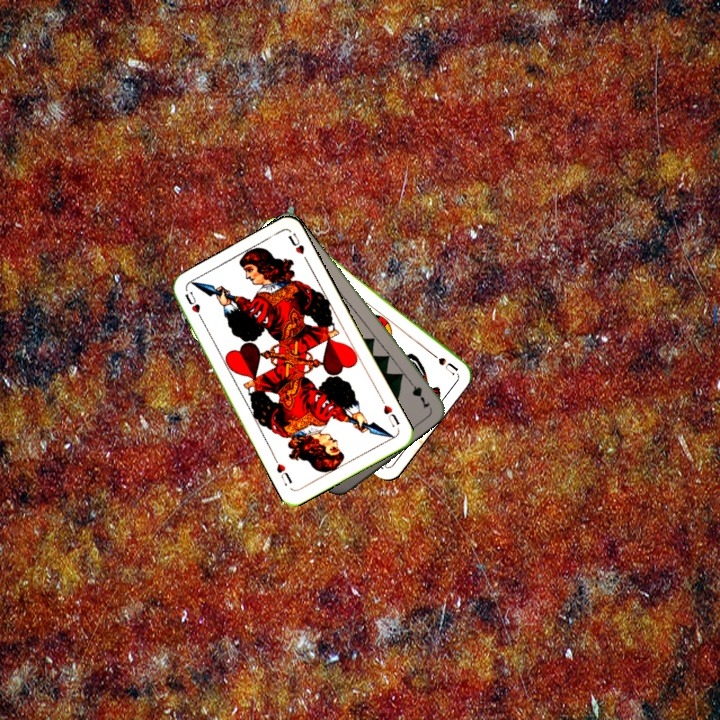G7: (403, 374, 433, 410)
HU: (181, 287, 206, 324), (379, 401, 402, 430)
SU: (423, 346, 460, 377)
